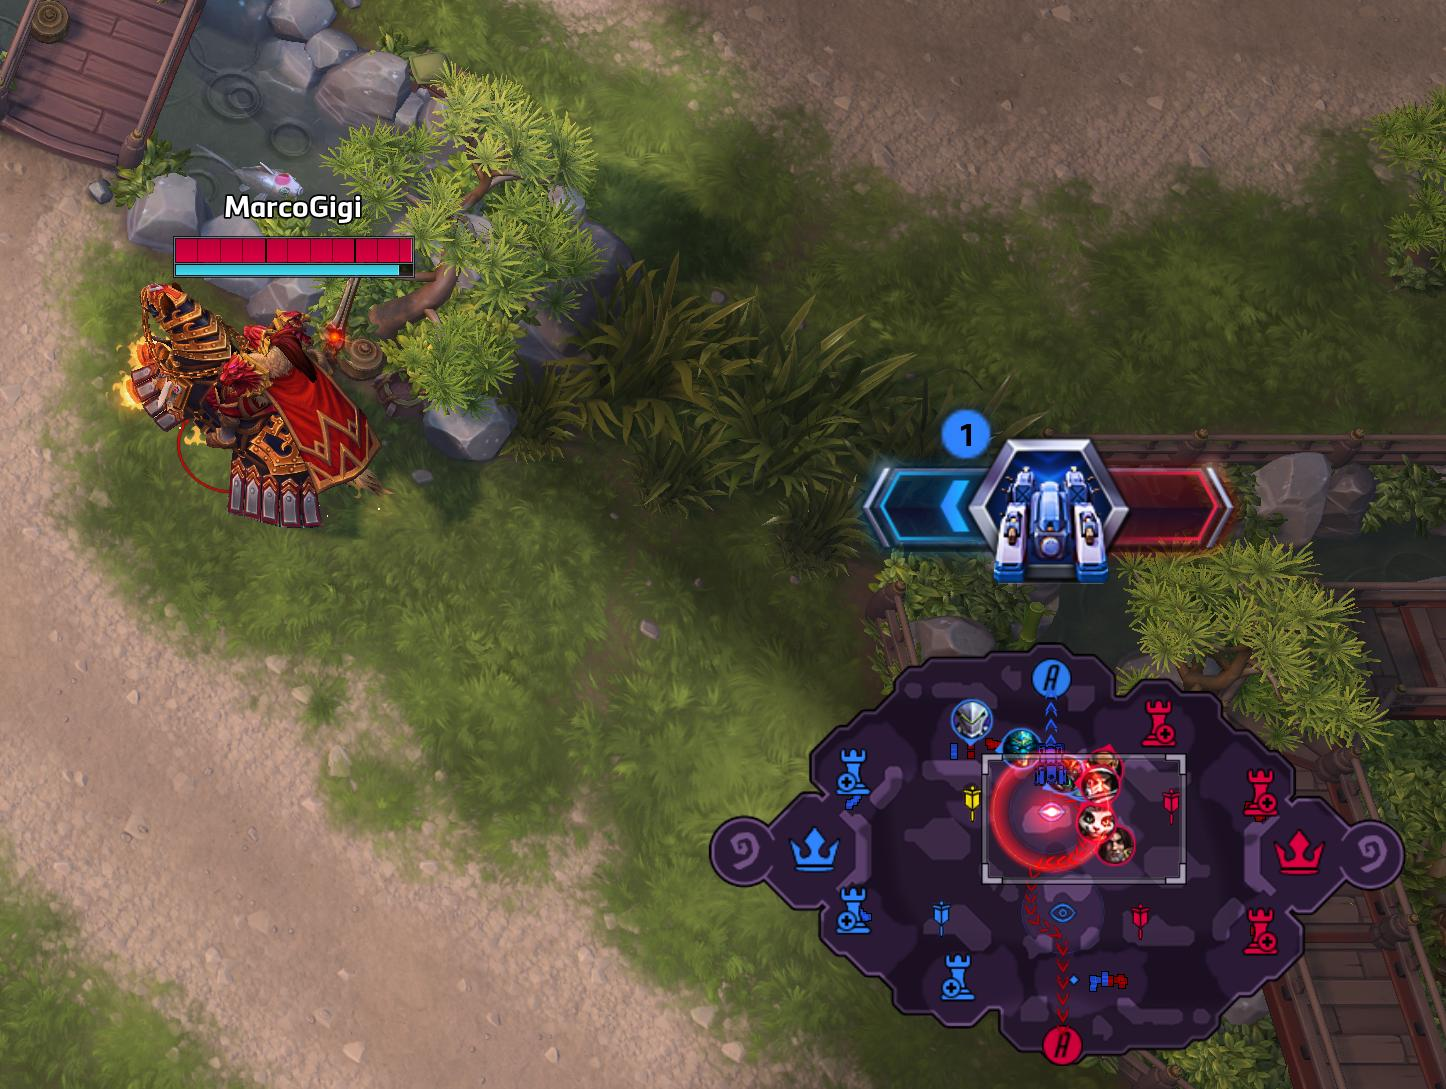blue nexus: (788, 825, 839, 872)
blue player: (950, 697, 993, 741), (1002, 728, 1044, 768), (1087, 747, 1120, 777)
blue tower: (836, 745, 873, 810), (834, 883, 872, 933), (941, 951, 977, 1000), (840, 747, 867, 769)
red nexus: (1274, 827, 1326, 875)
red player: (1098, 825, 1136, 865), (1079, 767, 1120, 803), (1077, 804, 1115, 840)
red tower: (1243, 769, 1279, 823), (1243, 906, 1279, 956), (1143, 699, 1177, 744)
